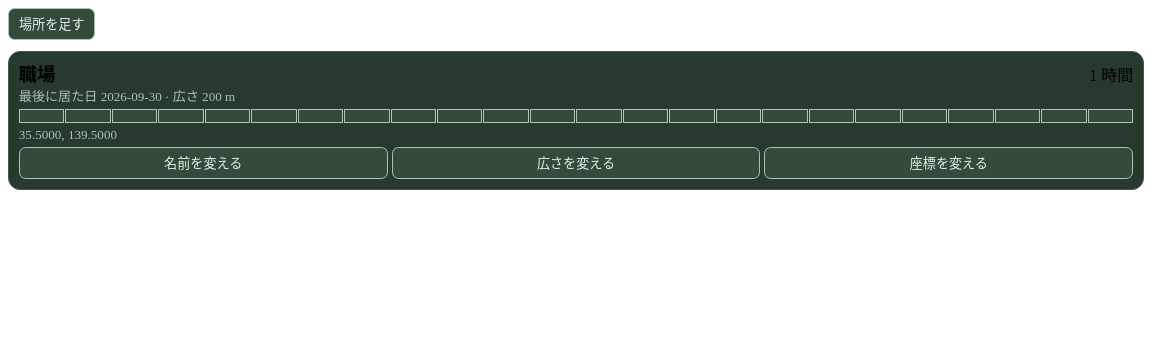
it: places-change: 広さを変える › 入力を変えずに 2 回押すと同じ原文を送る
The width and height of the screenshot is (1152, 348).
Click the button "広さを変える": (576, 163) [392, 147, 760, 179]
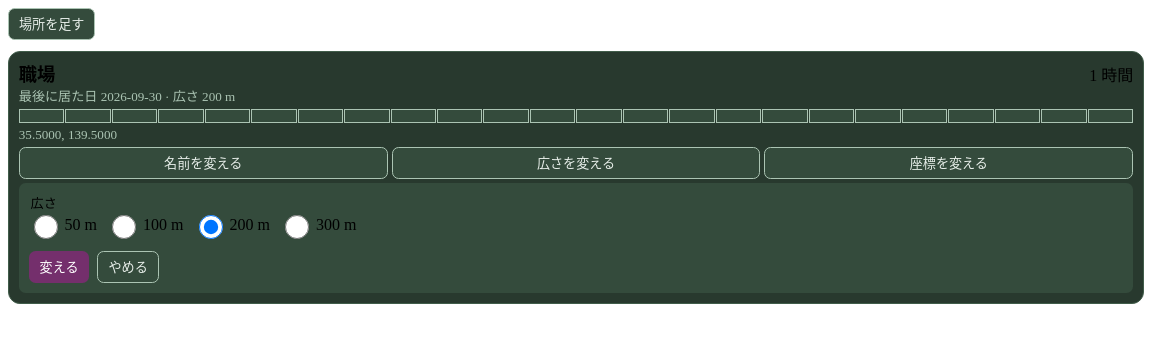
Click the radio button labelled "300 m": (297, 227) [285, 215, 309, 239]
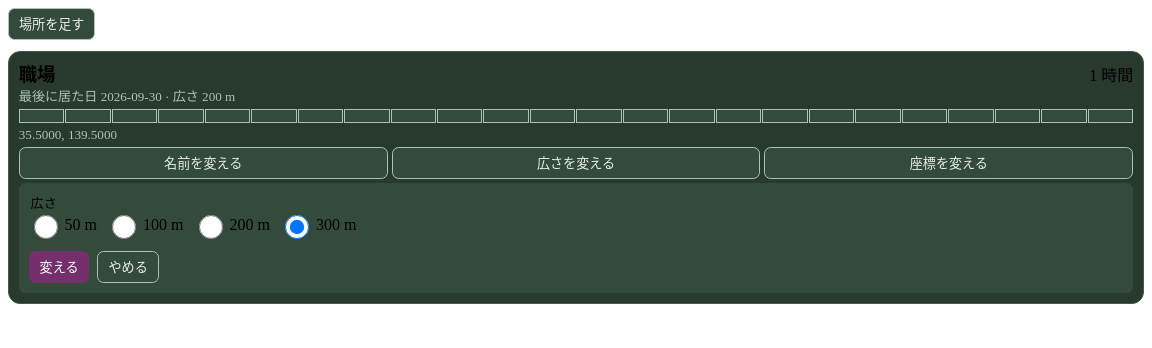
Click the button "変える": (59, 267) [29, 251, 90, 283]
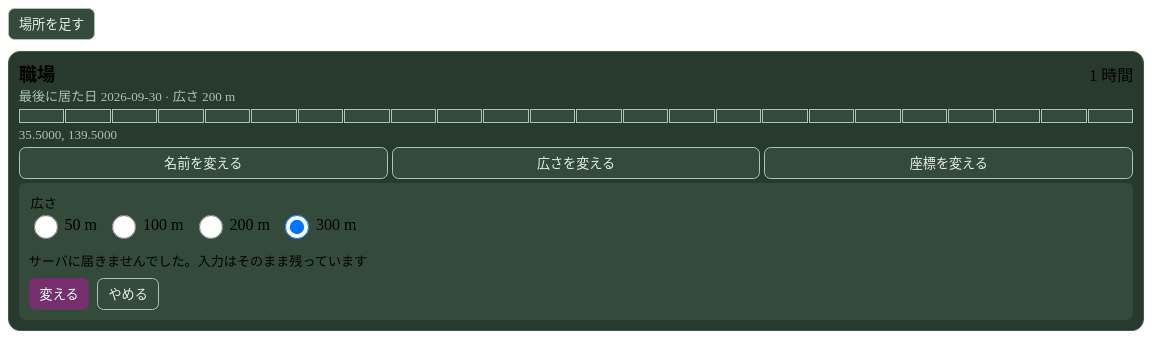
Expected: the message "サーバに届きませんでした。入力はそのまま残っています" is shown, [29, 254, 367, 269]
Click the button "変える": (59, 294) [29, 278, 90, 310]
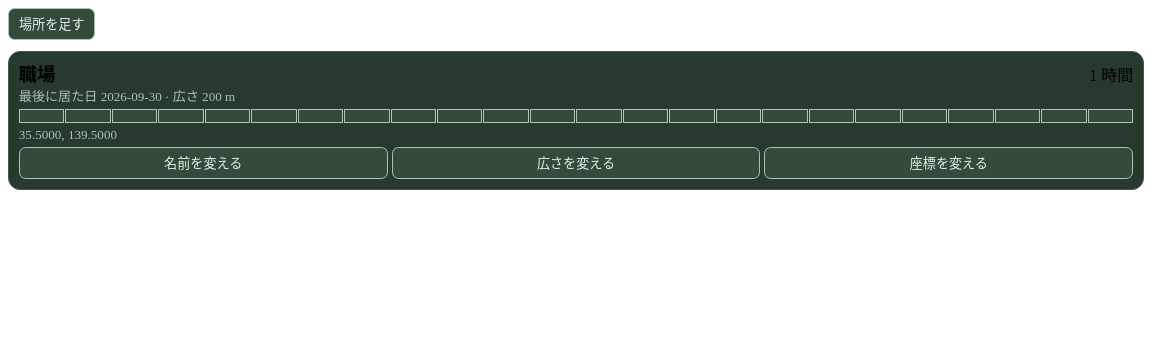
Expected: the element with test id "place-change-form" is gone
